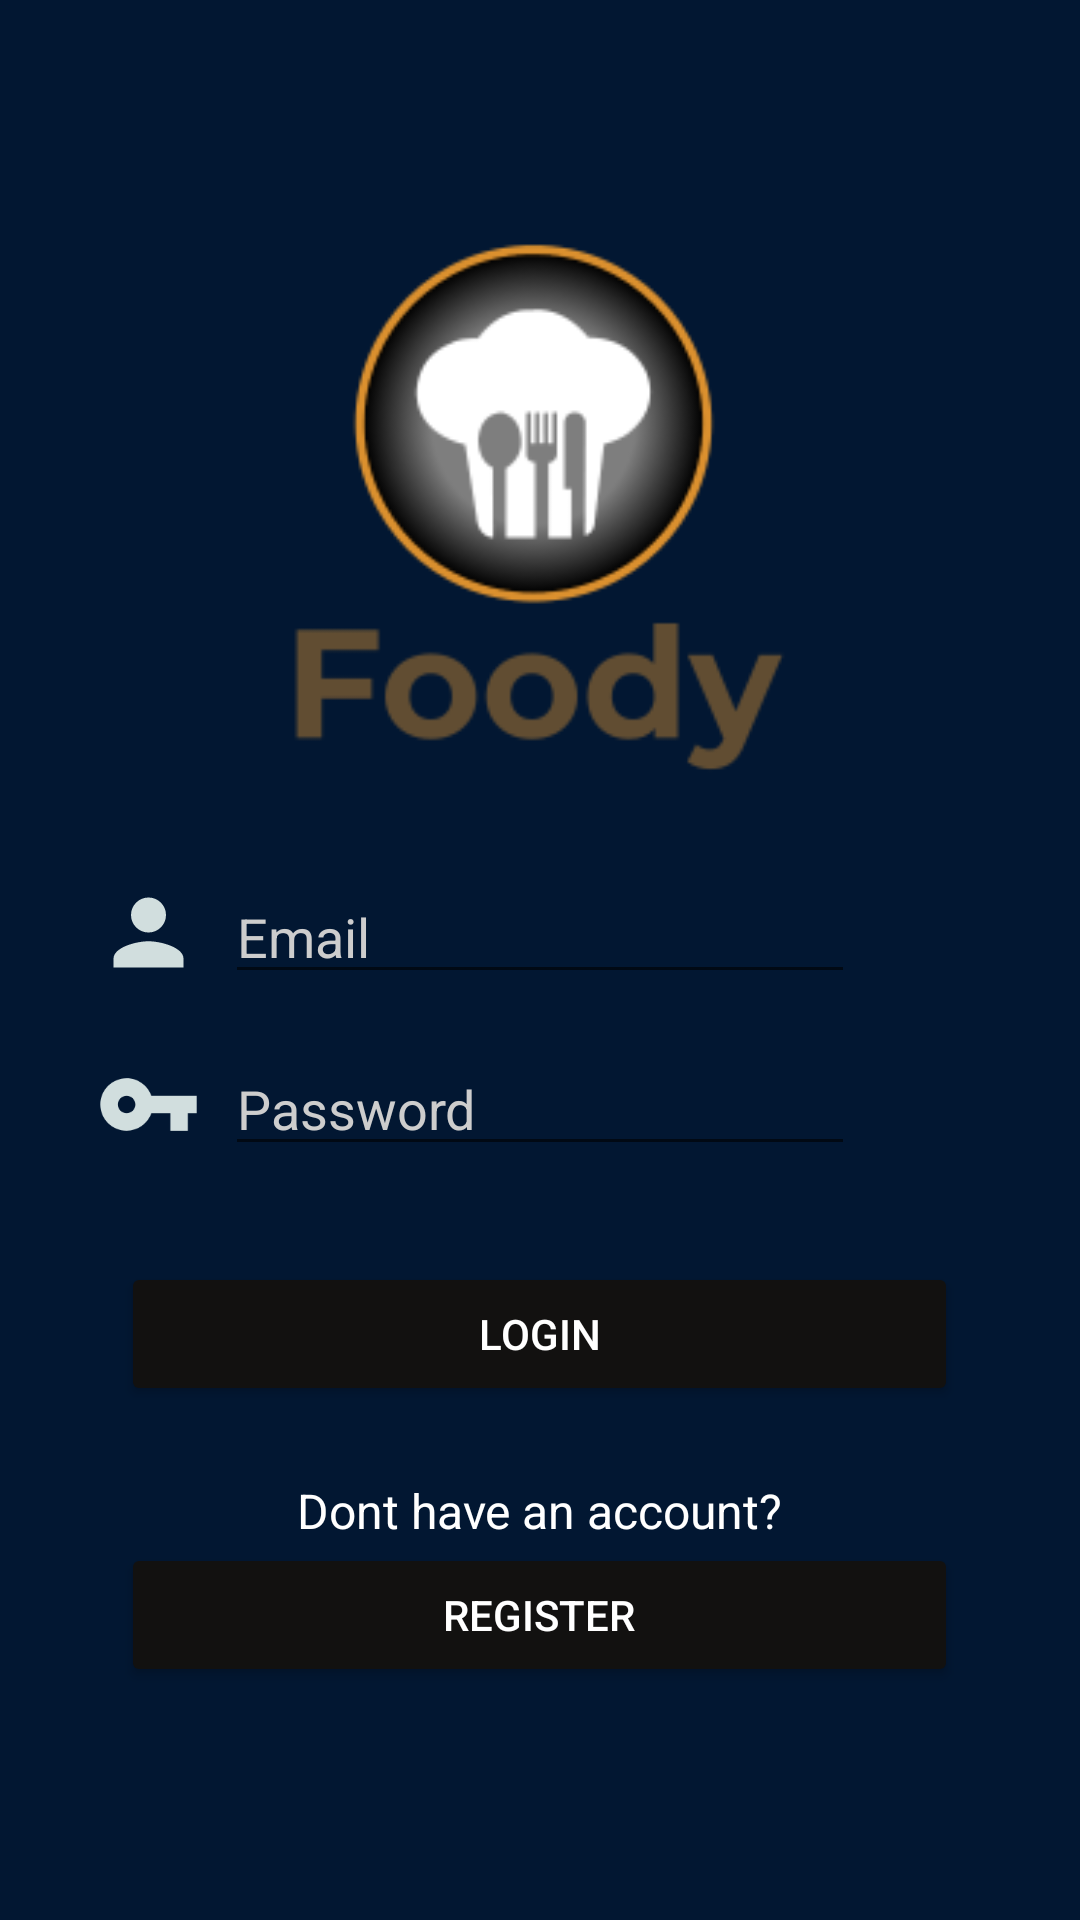

Named icons in this screenshot (1080px x 1920px) and their centers, point (x, y):
person: point (148, 932)
vpn key: point (148, 1104)
